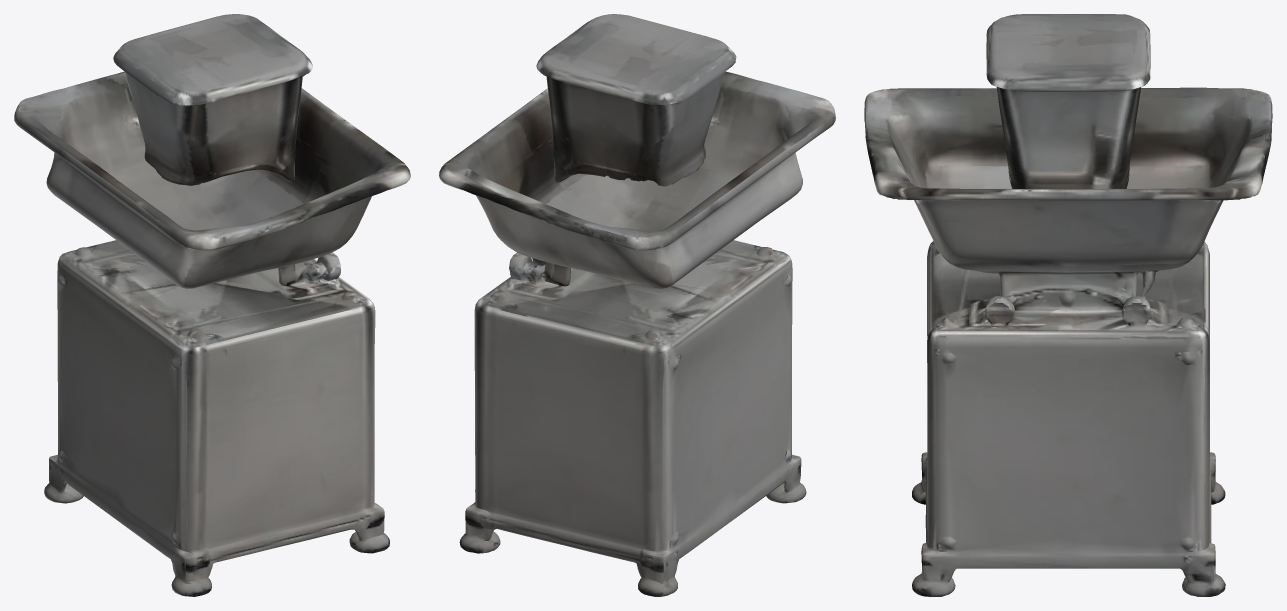
Rendered from mincer.glb.
The picture shows the model from 3 angles, left to right: view 1: azimuth 30°, elevation 25°; view 2: azimuth 150°, elevation 25°; view 3: azimuth 270°, elevation 25°; orthographic projection. The views are drawn at different scales.
Visible parts, largest first — view 1: cowninja-mincer; view 2: cowninja-mincer; view 3: cowninja-mincer.
Boxes of the visible parts, x1,y1,x2,y2 form: cowninja-mincer: (14,14,410,596); cowninja-mincer: (439,14,835,596); cowninja-mincer: (864,14,1272,596).
Bounding box in the file's own units: 0.3096 × 0.5986 × 0.4447.
1 material, 1 textured.
